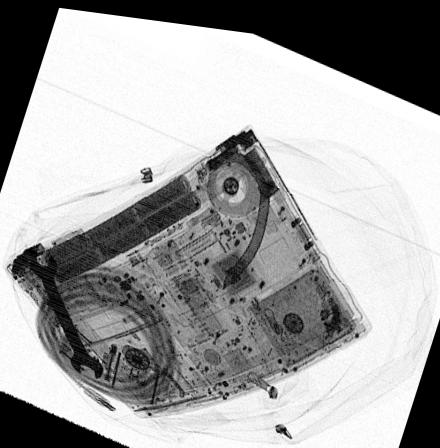Wrench: (28, 248, 104, 376)
